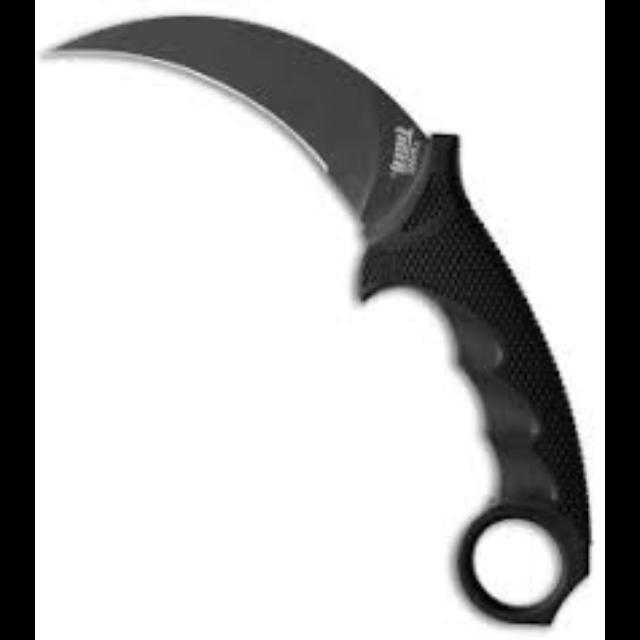Knife: (39, 11, 592, 626)
